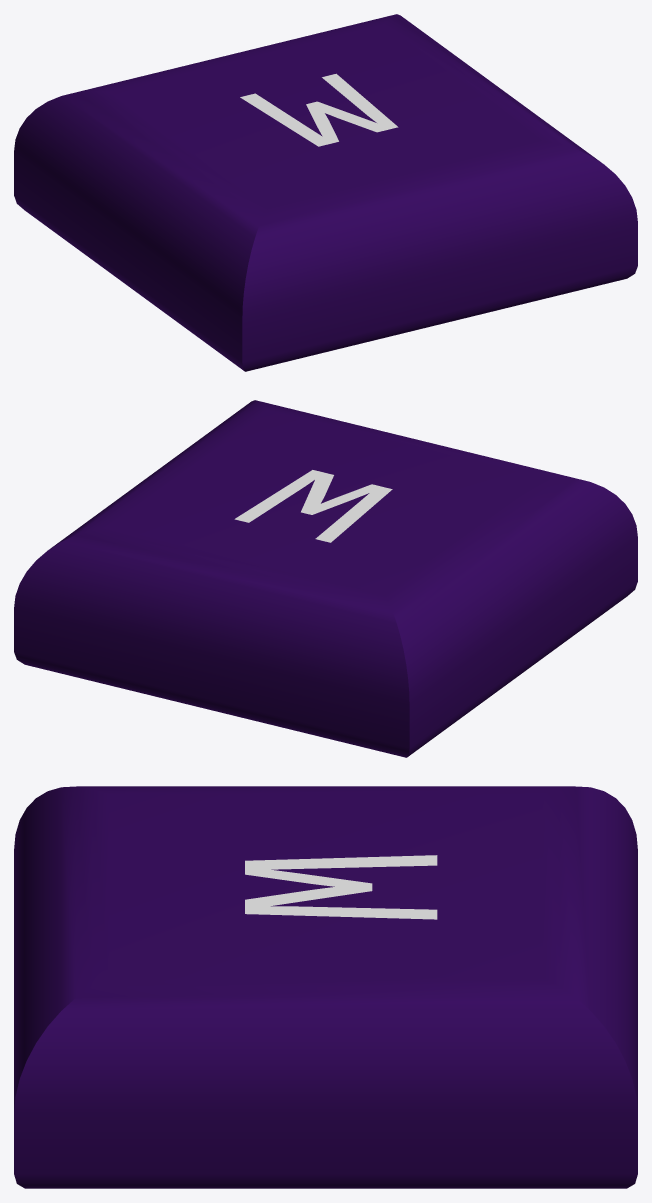
The model's file is w-key.glb.
3 renders of one model, top to bottom at view 1: azimuth 30°, elevation 25°; view 2: azimuth 150°, elevation 25°; view 3: azimuth 270°, elevation 25°, orthographic. The views are drawn at different scales.
Visible parts, largest first — view 1: Cube, Text; view 2: Cube, Text; view 3: Cube, Text.
Boxes of the visible parts, bbox=[...] form: Cube: bbox=[14, 14, 637, 371]; Text: bbox=[240, 73, 398, 146]; Cube: bbox=[14, 400, 637, 757]; Text: bbox=[234, 470, 392, 542]; Cube: bbox=[14, 786, 637, 1188]; Text: bbox=[245, 855, 437, 919].
Size of the model in its own units: 1.34 by 0.4228 by 1.34.
